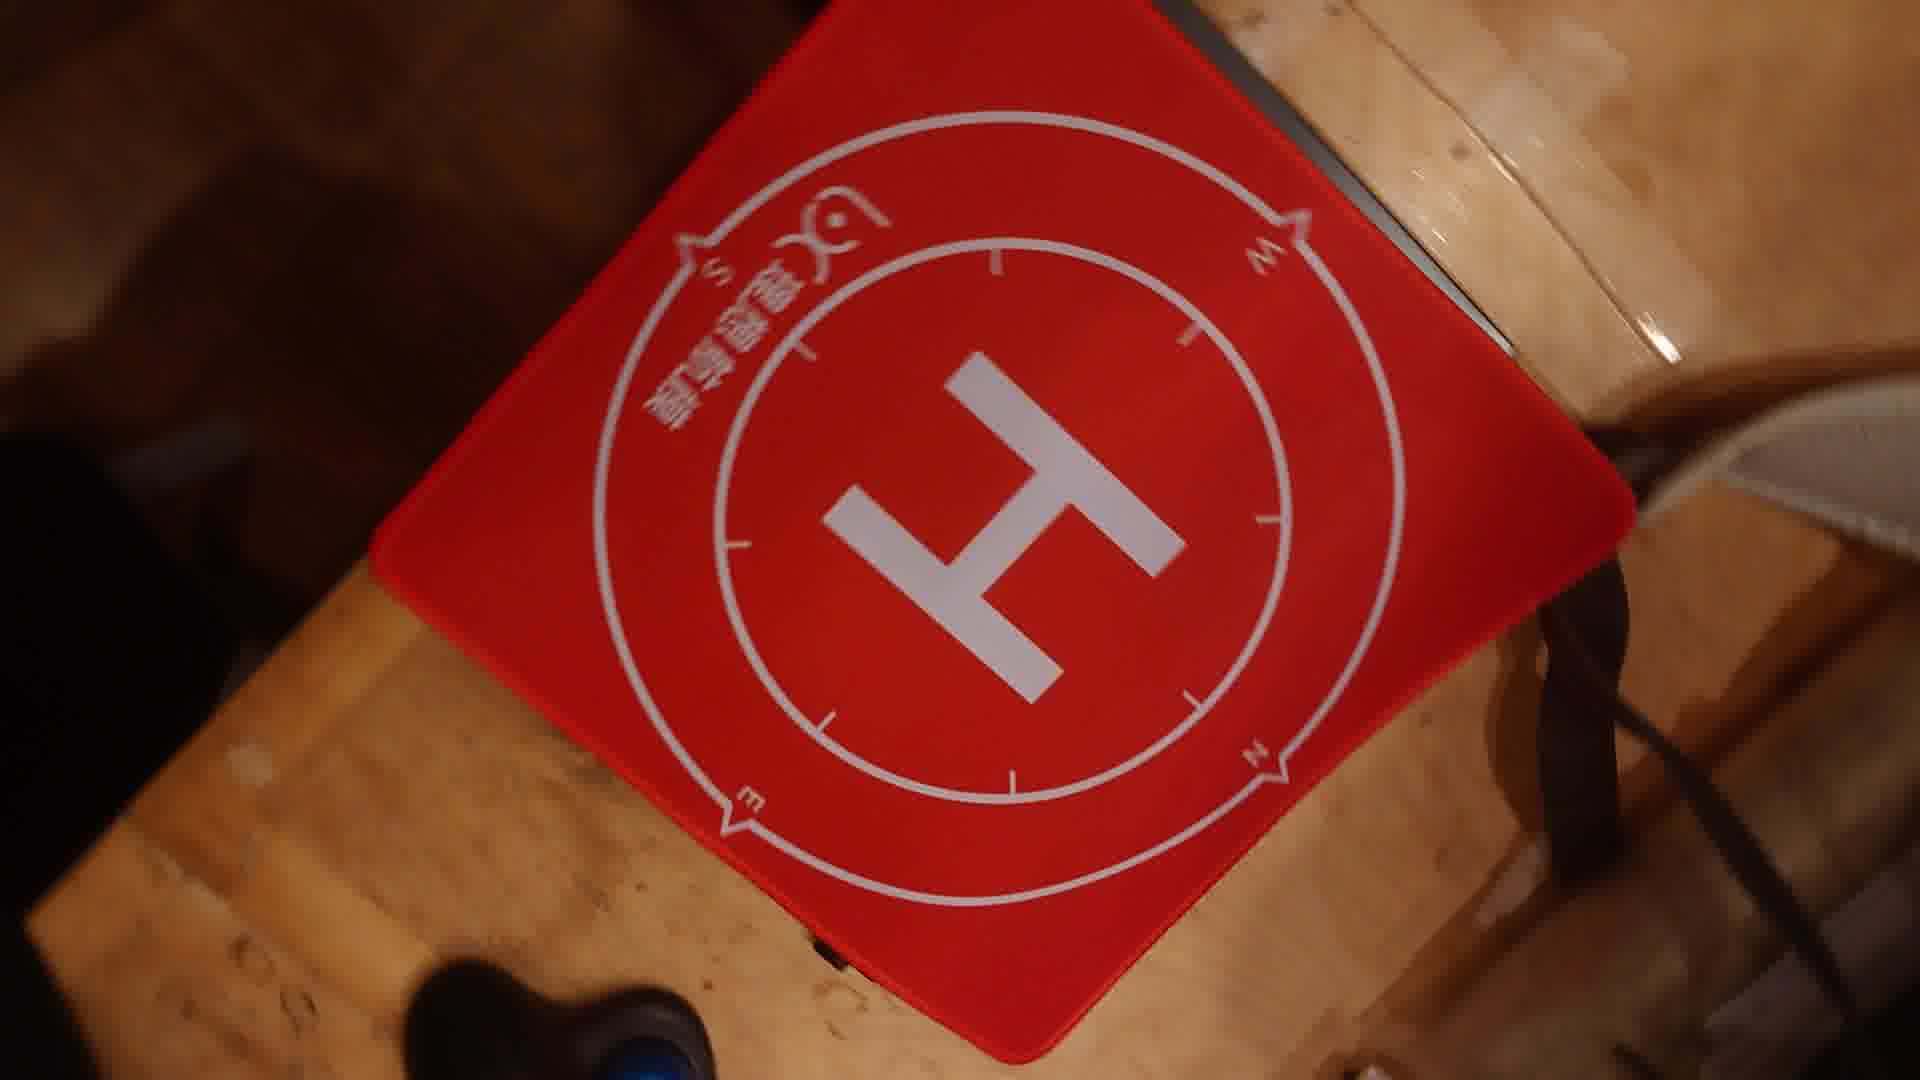H: (818, 349, 1189, 708)
